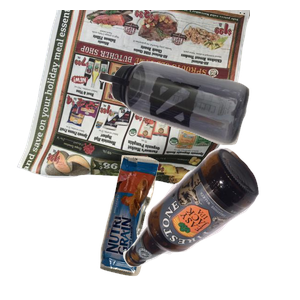glass: (120, 145, 300, 300)
paper: (14, 10, 254, 190)
plastic: (97, 59, 300, 197)
trash: (97, 152, 248, 300)
